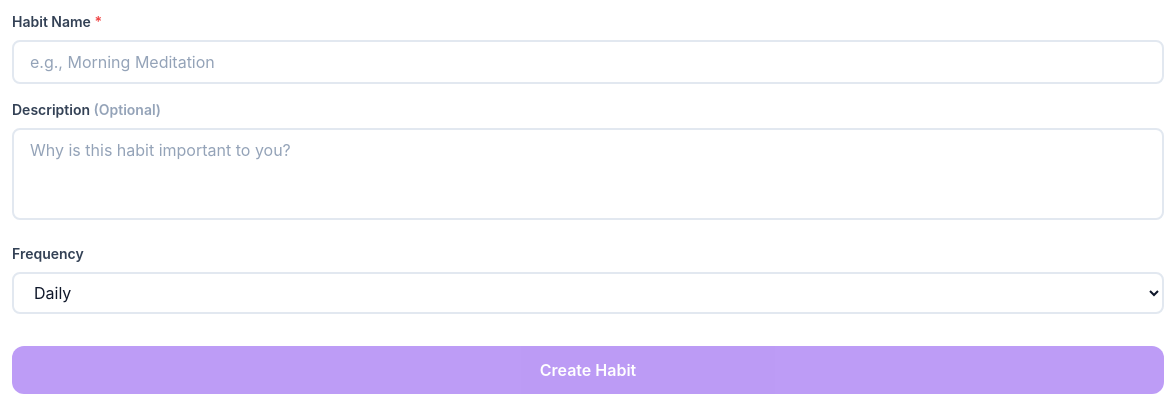
Test case: habit-form.test.tsx › HabitForm › should enable save button when name is entered
The width and height of the screenshot is (1176, 411).
Check: the button with test id "habit-save-button" is disabled, box top-left (12, 346), bottom-right (1164, 394)
Type "Test Habit" into the field with test id "habit-name-input" at [588, 62], box top-left (12, 40), bottom-right (1164, 84)
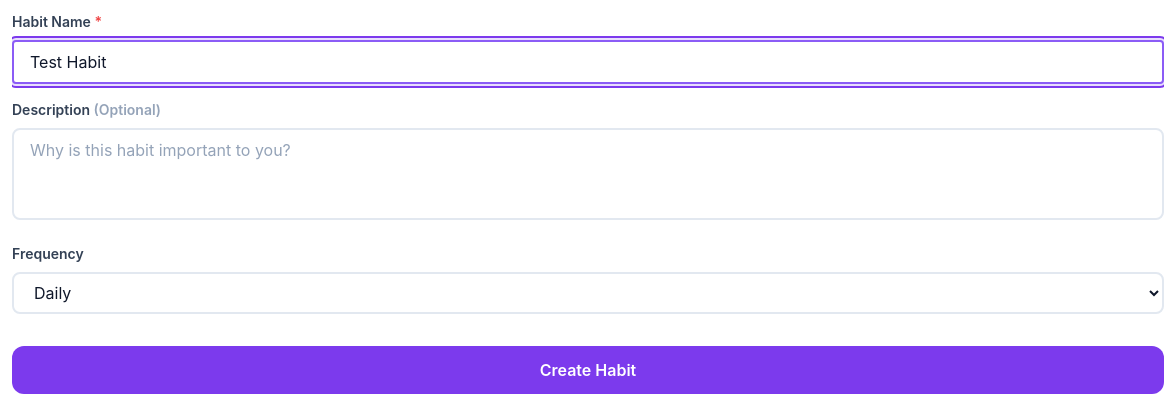
Check: the button with test id "habit-save-button" is enabled, box top-left (12, 346), bottom-right (1164, 394)
